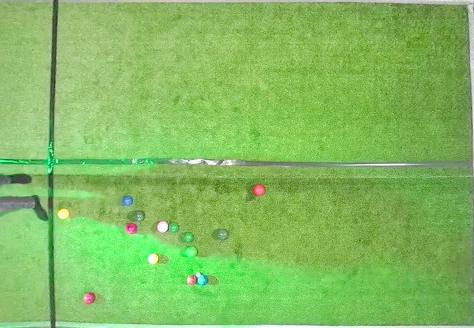blue: (122, 196, 133, 206), (198, 275, 208, 285)
green: (186, 247, 197, 257), (218, 229, 228, 240), (183, 233, 193, 242), (169, 223, 179, 232), (135, 212, 144, 221)
red: (157, 221, 168, 233), (253, 185, 265, 196), (84, 293, 95, 304), (126, 223, 137, 234), (187, 276, 196, 285)
vline: (1, 0, 59, 327), (466, 0, 473, 328)
white: (196, 272, 200, 277)
yellow: (57, 209, 69, 219), (148, 254, 158, 264)
